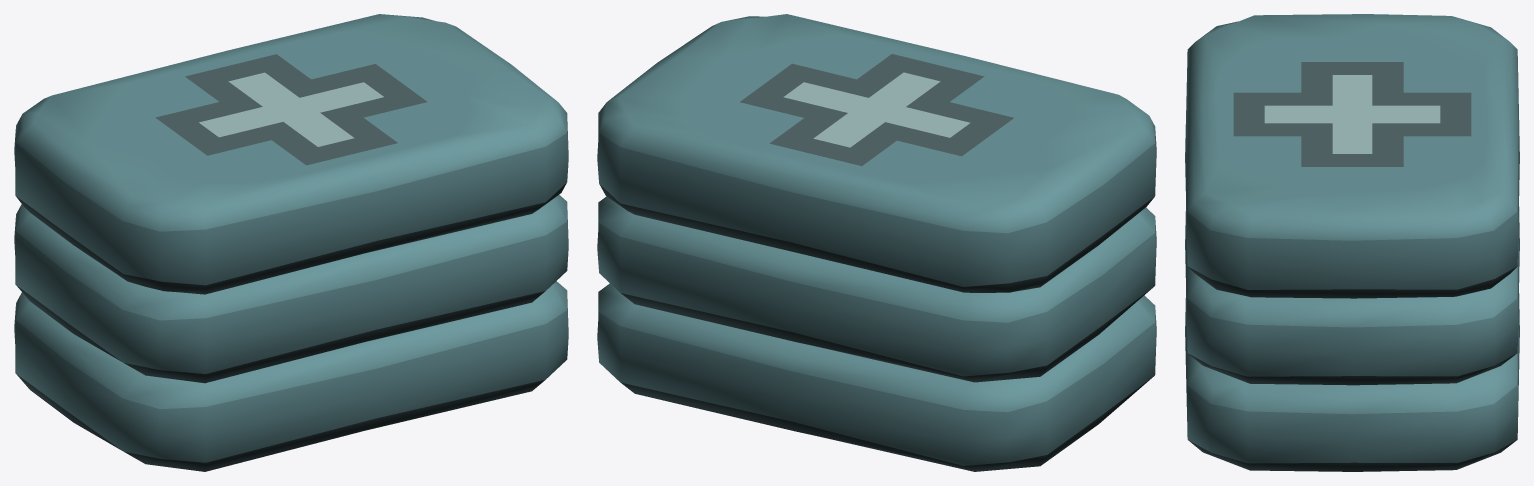
Rendered from item_medicine_industrial_c.obj.
3 renders of one model, left to right at view 1: azimuth 30°, elevation 25°; view 2: azimuth 150°, elevation 25°; view 3: azimuth 270°, elevation 25°, orthographic. The views are drawn at different scales.
Visible parts, largest first — view 1: item_medicine_industrial_c_component_03_stage_3, item_medicine_industrial_c_component_01_stage_1, item_medicine_industrial_c_component_02_stage_2; view 2: item_medicine_industrial_c_component_03_stage_3, item_medicine_industrial_c_component_01_stage_1, item_medicine_industrial_c_component_02_stage_2; view 3: item_medicine_industrial_c_component_03_stage_3, item_medicine_industrial_c_component_01_stage_1, item_medicine_industrial_c_component_02_stage_2.
Boxes of the visible parts, box(x1,y1,x2,y2) form: item_medicine_industrial_c_component_03_stage_3: box(14, 14, 568, 294); item_medicine_industrial_c_component_01_stage_1: box(14, 281, 568, 471); item_medicine_industrial_c_component_02_stage_2: box(14, 195, 568, 383); item_medicine_industrial_c_component_03_stage_3: box(597, 14, 1156, 292); item_medicine_industrial_c_component_01_stage_1: box(597, 283, 1156, 471); item_medicine_industrial_c_component_02_stage_2: box(597, 196, 1156, 382); item_medicine_industrial_c_component_03_stage_3: box(1185, 14, 1519, 298); item_medicine_industrial_c_component_01_stage_1: box(1185, 292, 1519, 471); item_medicine_industrial_c_component_02_stage_2: box(1185, 205, 1519, 385).
Size of the model in its own units: 0.672 by 0.378 by 0.441.
